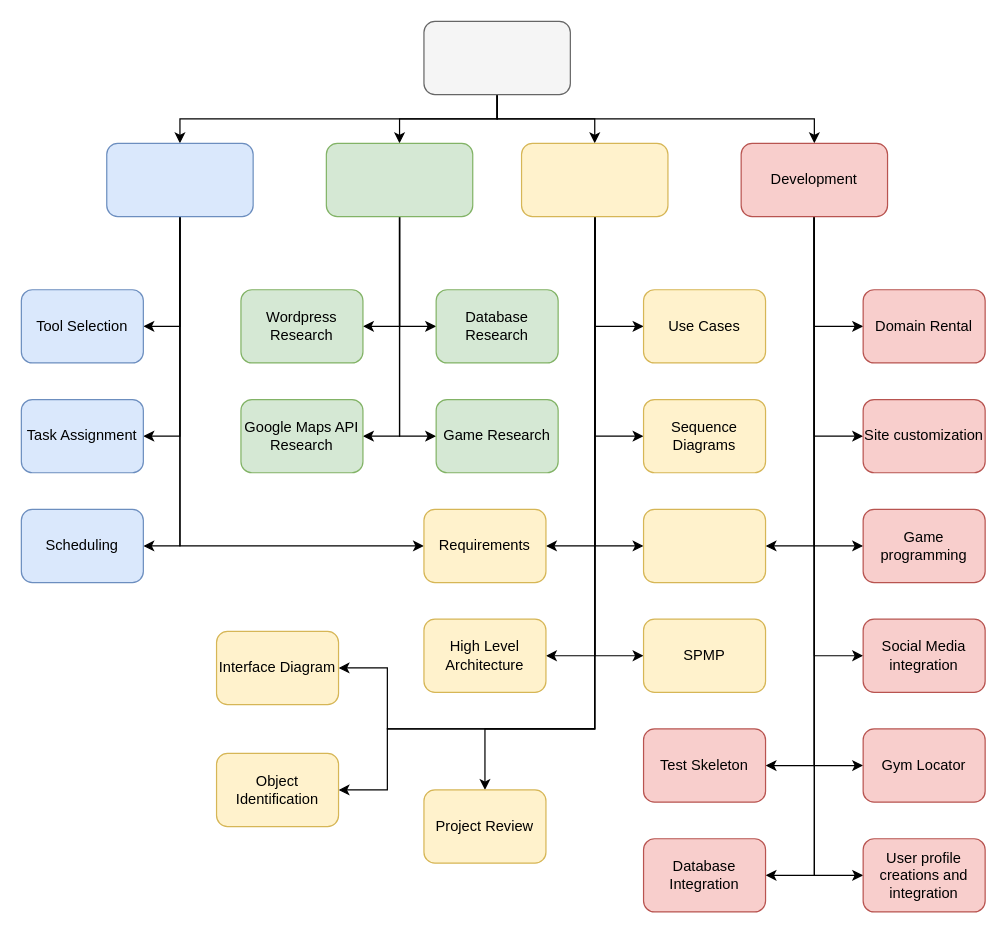
Some shapes in this 1007 by 933 pixel diagram are drawn without their labels. The box of each missing label's shape, as (x1, y1, x2, y2) in pixels:
BrainGangFitness.fun WBS Chart: (423, 20, 570, 95)
Documentation: (520, 142, 668, 217)
Planning: (106, 142, 253, 217)
Progress Report: (642, 508, 766, 583)
Research: (325, 142, 473, 217)
